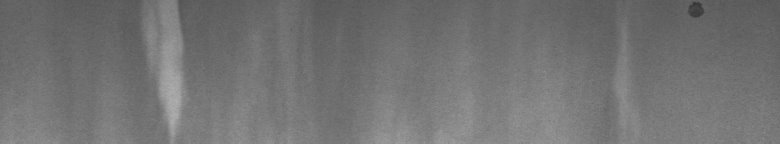fi: (623, 4, 708, 38)
